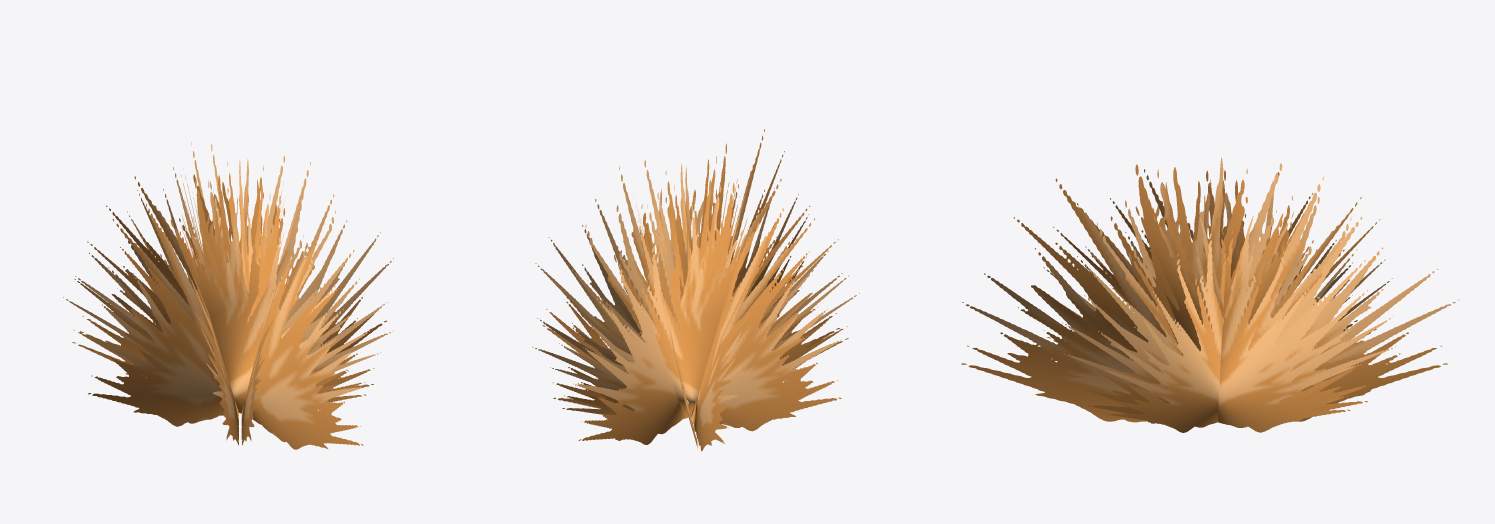
File: SpinifexDrop.fbx
3 views of the same model, side by side, from view 1: azimuth 30°, elevation 25°; view 2: azimuth 150°, elevation 25°; view 3: azimuth 270°, elevation 25° (orthographic). The views are drawn at different scales.
Parts seen in each view (by area): view 1: Spinifex; view 2: Spinifex; view 3: Spinifex.
Boxes of the visible parts, x1=… form: Spinifex: x1=63, y1=142, x2=393, y2=449; Spinifex: x1=532, y1=129, x2=859, y2=451; Spinifex: x1=961, y1=156, x2=1459, y2=432.
Size of the model in its own units: 1.48 by 1.32 by 1.97.
